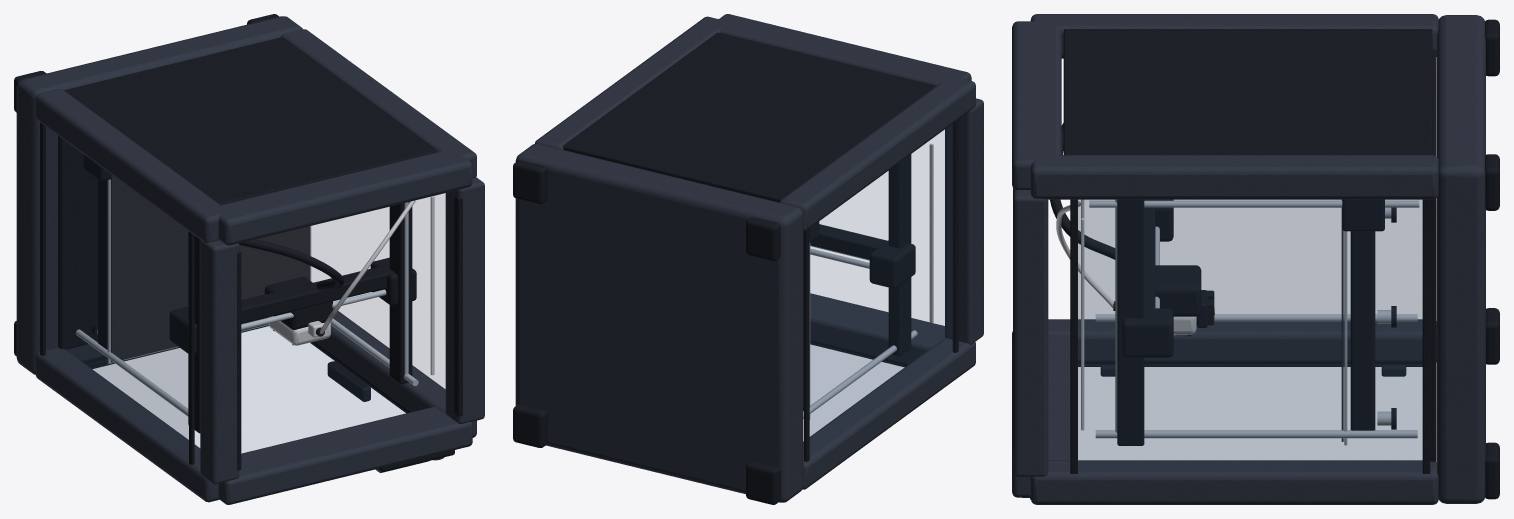
File: printer-p1.glb
The picture shows the model from 3 angles, left to right: view 1: azimuth 30°, elevation 25°; view 2: azimuth 150°, elevation 25°; view 3: azimuth 270°, elevation 25°; orthographic projection. The views are drawn at different scales.
Parts seen in each view (by area): view 1: Graphite, Mechanics, Glass_Smoke, Textured_BuildPlate, Machined_Aluminium, Shell_Pearl; view 2: Graphite, Mechanics, Glass_Smoke, Machined_Aluminium, Shell_Pearl; view 3: Graphite, Glass_Smoke, Mechanics, Machined_Aluminium, Shell_Pearl, Textured_BuildPlate.
Part boxes in pixels (box(x1,y1,x2,y2)): Graphite: box(16, 16, 484, 504); Mechanics: box(14, 14, 462, 471); Glass_Smoke: box(45, 127, 444, 460); Textured_BuildPlate: box(111, 175, 428, 472); Machined_Aluminium: box(75, 179, 418, 416); Shell_Pearl: box(268, 196, 434, 375); Graphite: box(515, 14, 983, 502); Mechanics: box(513, 32, 958, 504); Glass_Smoke: box(810, 123, 953, 456); Machined_Aluminium: box(803, 243, 917, 419); Shell_Pearl: box(929, 143, 933, 322); Graphite: box(1012, 14, 1485, 504); Glass_Smoke: box(1078, 200, 1422, 471); Mechanics: box(1013, 19, 1499, 499); Machined_Aluminium: box(1089, 199, 1419, 445); Shell_Pearl: box(1056, 199, 1196, 430); Textured_BuildPlate: box(1341, 200, 1343, 441).
Size of the model in its own units: 0.48 by 0.5015 by 0.6285.
Materials: 8 (4 with a texture image).
